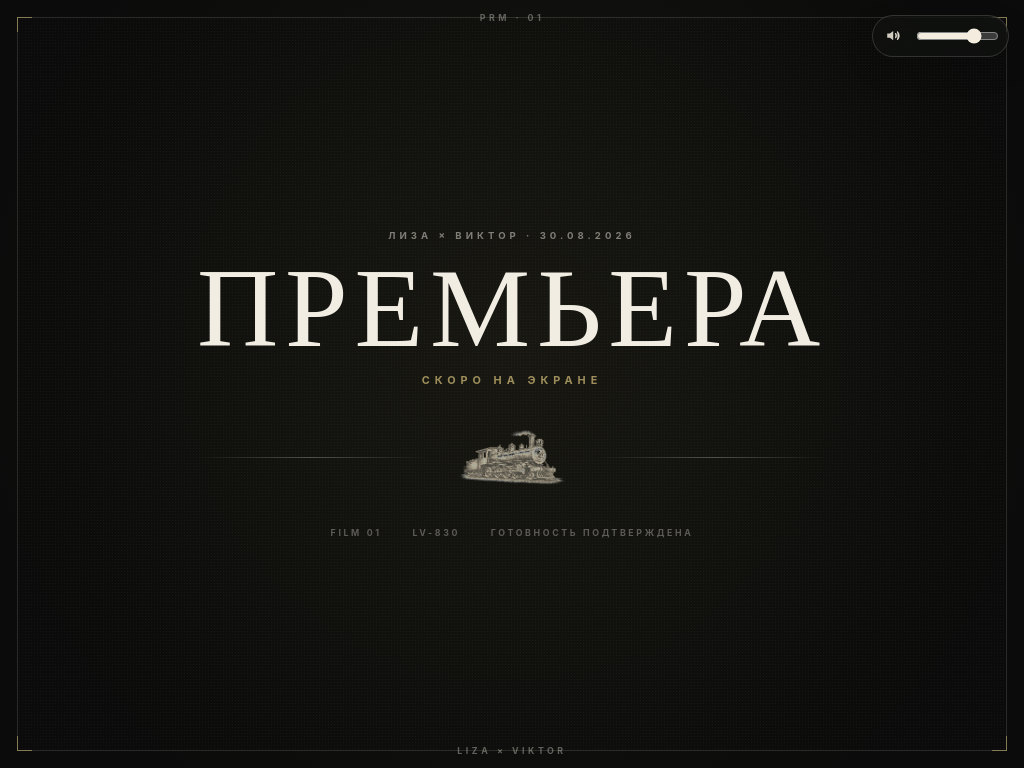
Test: ScreenPage premiere presence heartbeat › starts with sound enabled, auto-arms audio, and exposes a disable-first toggle that mutes premiere media
Click the button named "Выключить звук".
click(893, 36)  # box [879, 22, 907, 50]
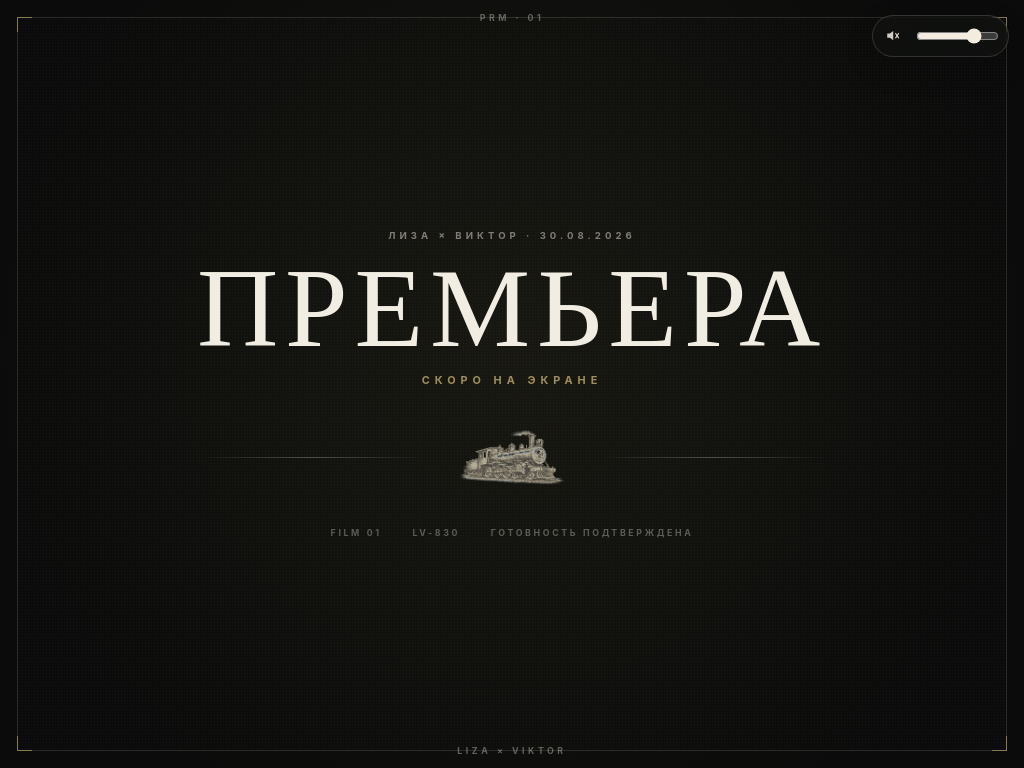
Result: the button named "Включить звук" is shown
Click the button named "Включить звук".
click(893, 36)  # box [879, 22, 907, 50]
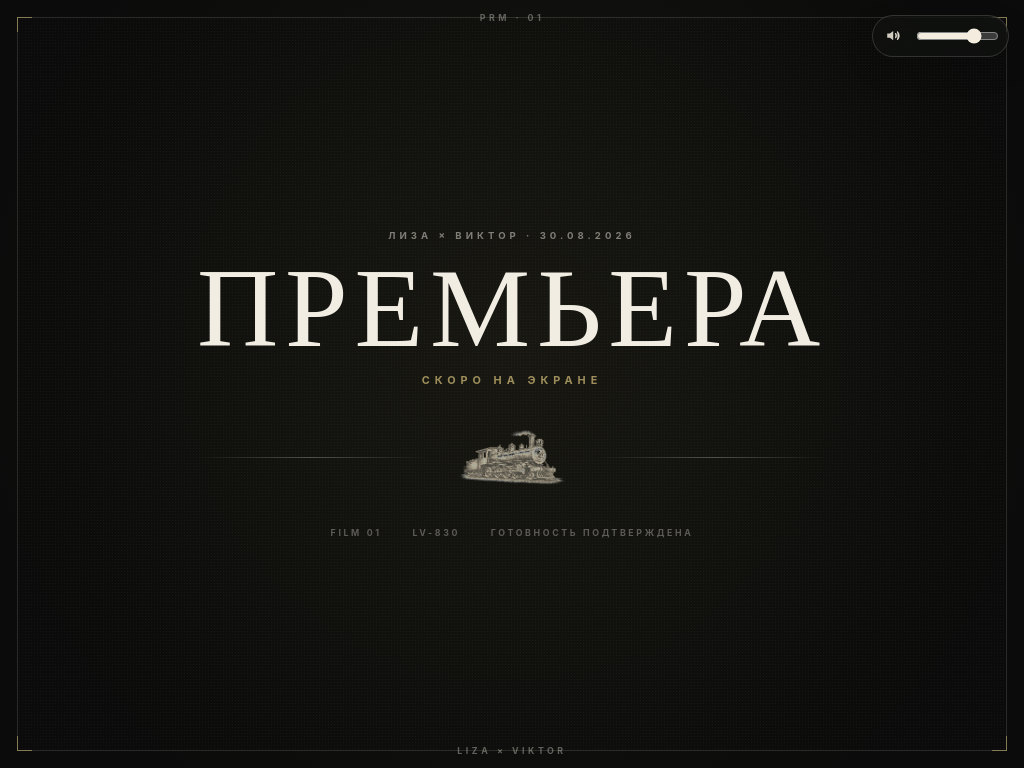
Result: the button named "Выключить звук" is shown at [879, 22, 907, 50]
